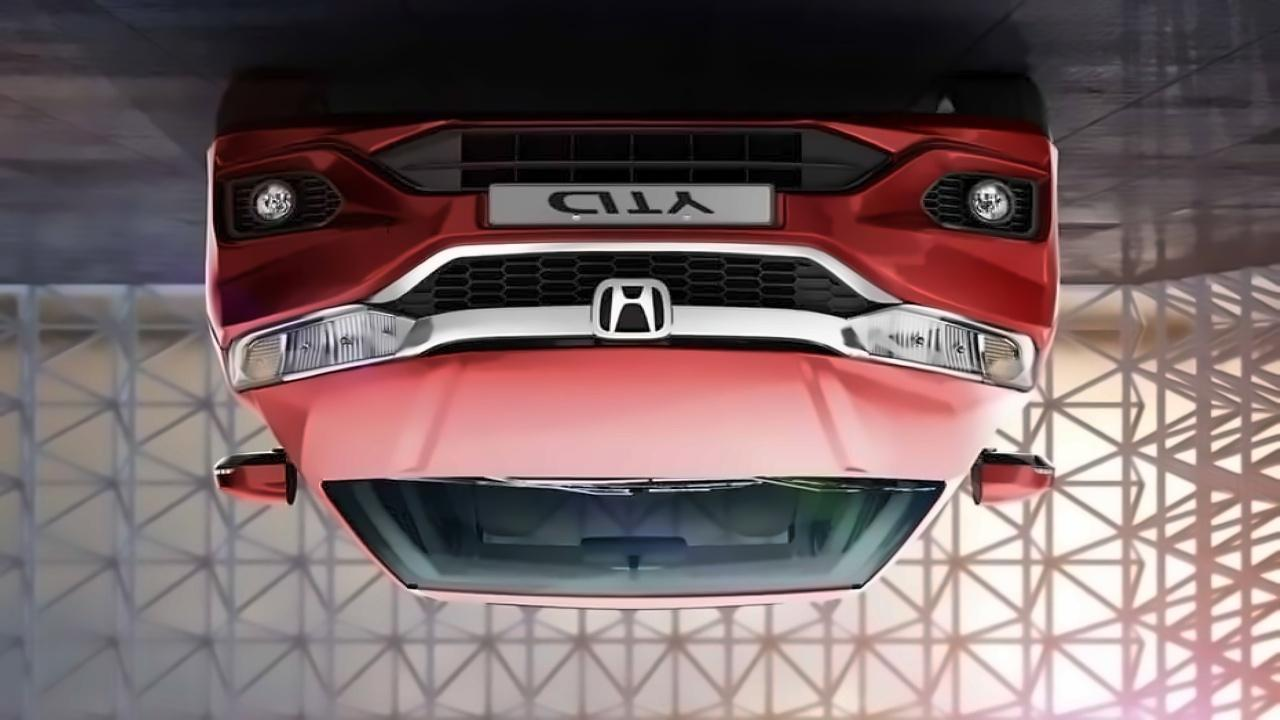Car hood: (227, 340, 1036, 491)
Front bumper: (195, 95, 1071, 339)
Headlight - -L-: (219, 294, 429, 403)
Headlight - -R-: (837, 299, 1042, 395)
Side mirror - -L-: (204, 444, 307, 513)
Side mirror - -R-: (964, 439, 1065, 518)
